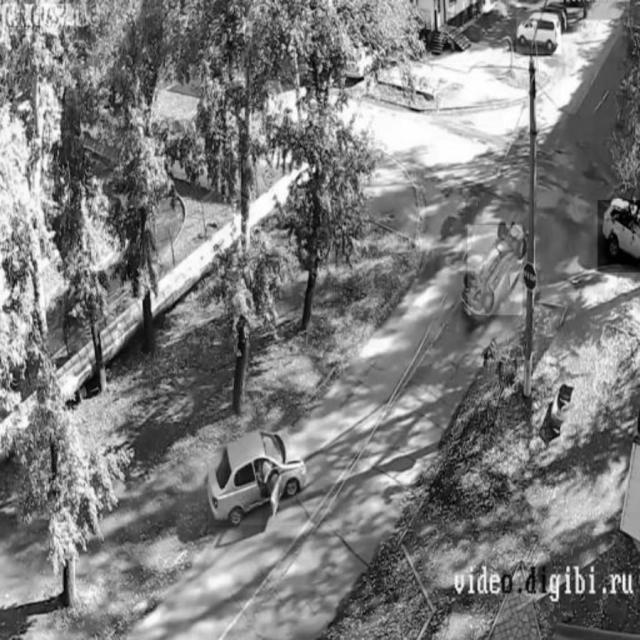vehicle: (209, 433, 307, 525), (467, 225, 523, 316), (598, 200, 640, 272), (517, 13, 562, 54)
